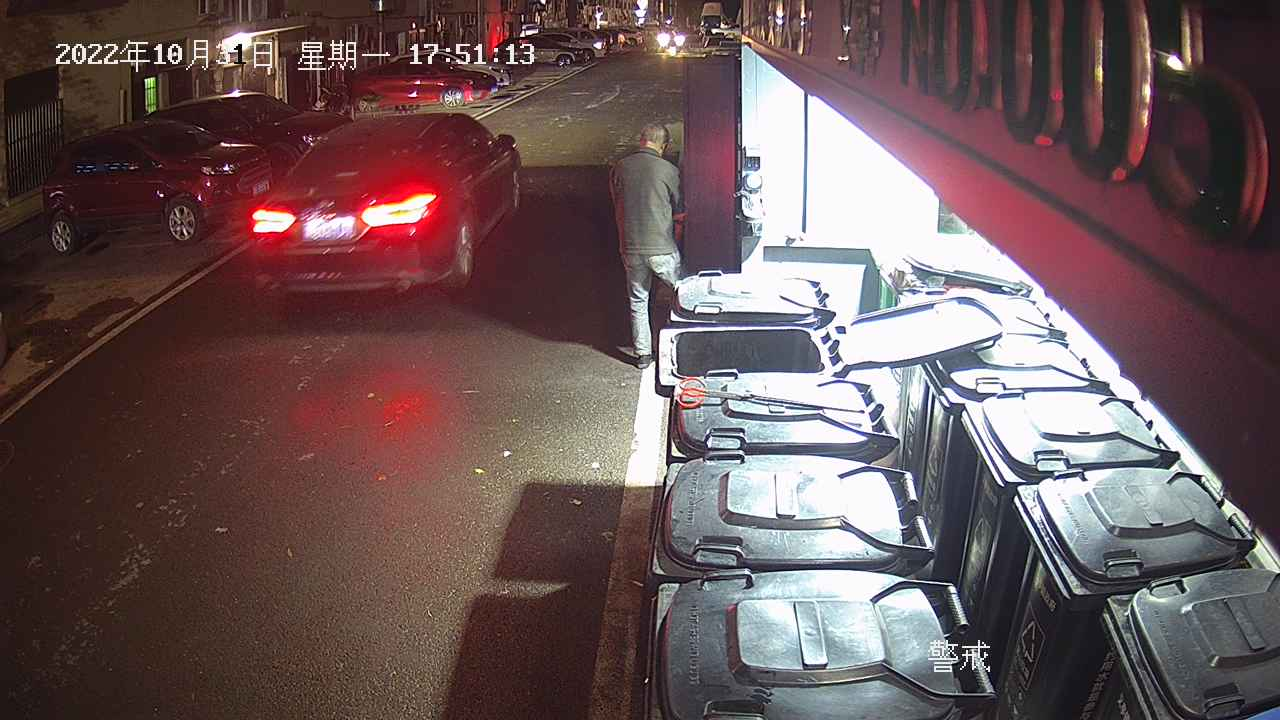person: (609, 119, 686, 369)
